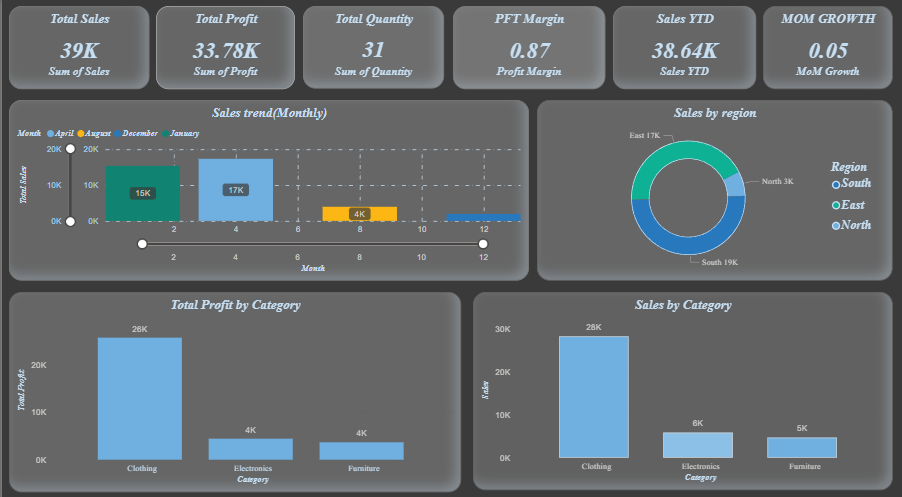

What the dashboard file says about the page in this screenshot:
{"tool":"powerbi","page":{"name":"Page 1","canvas":[1280,720],"ordinal":0},"visuals":[{"type":"card","title":"Total Sales","fields":{"Values":["Sum(Sales_Data.Sales)"]},"box":[10.1,14.4,198.7,118.1],"z":0},{"type":"card","title":"Total Profit","fields":{"Values":["Sum(Sales_Data.Profit)"]},"box":[218.9,14.4,197.3,118.1],"z":1000},{"type":"card","title":"Total Quantity","fields":{"Values":["Sum(Sales_Data.Quantity)"]},"box":[426.2,14.4,200.2,116.6],"z":2000},{"type":"card","title":"PFT Margin","fields":{"Values":["Dim_Category.Profit Margin"]},"box":[639.4,14.4,216,118.1],"z":3000},{"type":"card","title":"Sales YTD","fields":{"Values":["Dim_Date.Sales YTD"]},"box":[865.4,14.4,203,118.1],"z":4000},{"type":"card","title":"MOM GROWTH","fields":{"Values":["Dim_Date.MoM Growth"]},"box":[1078.6,14.4,184.3,118.1],"z":5000},{"type":"lineStackedColumnComboChart","title":"Sales trend(Monthly)","fields":{"Category":["Dim_Date.Month Number"],"Series":["Dim_Date.Month"],"Y":["Dim_Category.Total Sales"]},"box":[10.1,146.9,737.3,256.3],"z":6000},{"type":"columnChart","title":"Sales by Category","fields":{"Category":["Dim_Category.Category"],"Y":["Dim_Category.Total Sales"]},"box":[668.2,419,594.7,280.8],"z":7000},{"type":"clusteredColumnChart","fields":{"Category":["Dim_Category.Category"],"Y":["Dim_Category.Total Profit"]},"box":[10.1,419,640.8,283.7],"z":8000},{"type":"donutChart","title":"Sales by region","fields":{"Category":["Dim_Region.Region"],"Y":["Sum(Sales_Data.Sales)"]},"box":[758.9,146.9,504,256.3],"z":9000}]}

Visuals, with their boxes in screenshot pixels (x1, y1, x2, y2), scaled from the page's 1280x720 canvas onto the 902x497 screenshot:
"Total Sales" card: 7/10/147/91
"Total Profit" card: 154/10/293/91
"Total Quantity" card: 300/10/441/90
"PFT Margin" card: 451/10/603/91
"Sales YTD" card: 610/10/753/91
"MOM GROWTH" card: 760/10/890/91
"Sales trend(Monthly)" lineStackedColumnComboChart: 7/101/527/278
"Sales by Category" columnChart: 471/289/890/483
clusteredColumnChart - Dim_Category.Category x Dim_Category.Total Profit: 7/289/459/485
"Sales by region" donutChart: 535/101/890/278
